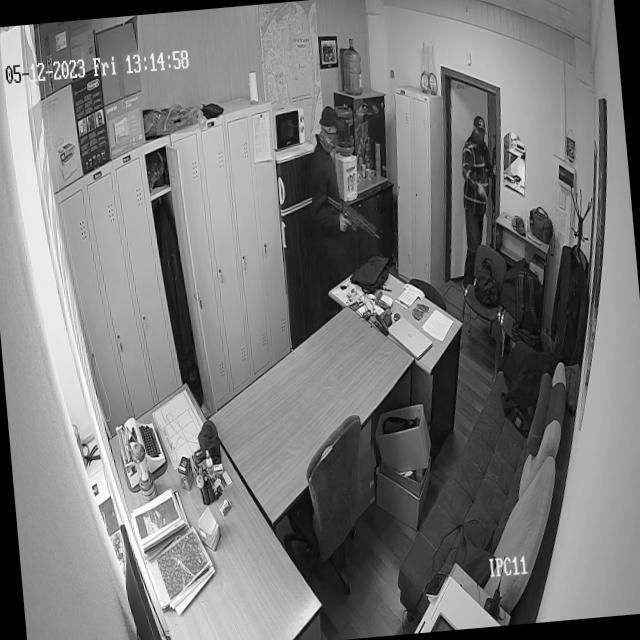gun: (329, 188, 380, 244)
person: (456, 111, 500, 218)
person with a gun: (286, 70, 377, 333)
